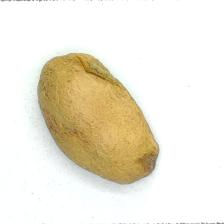NG: (69, 47, 121, 90), (139, 146, 161, 177)
